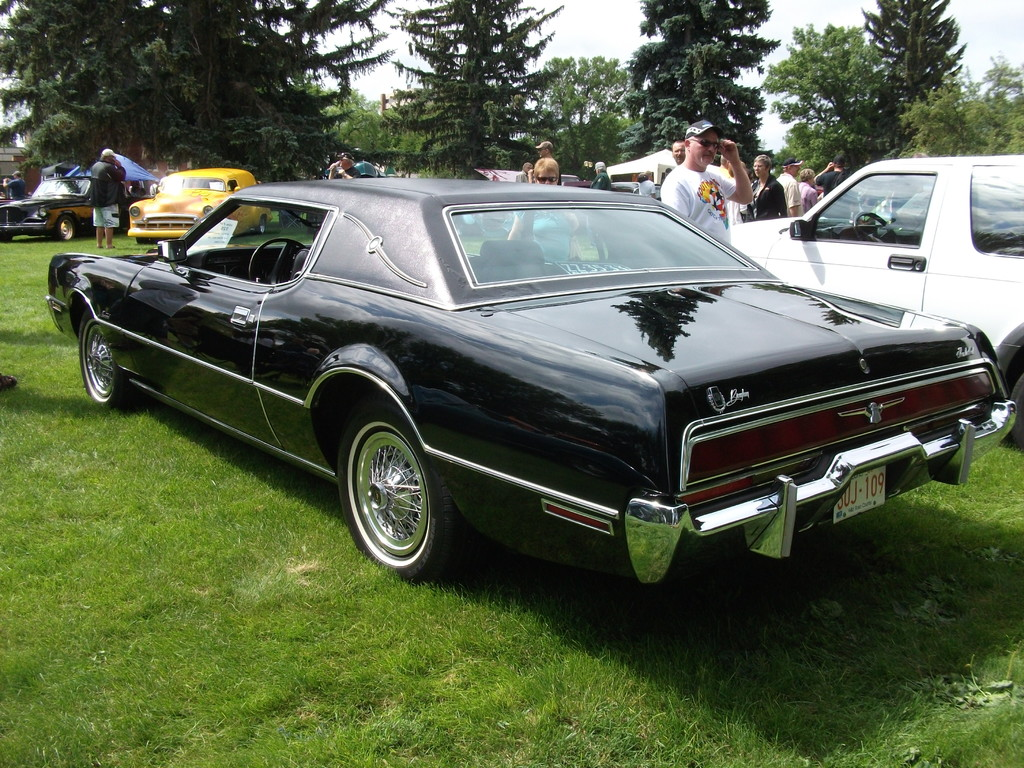Car: (8, 178, 1009, 602), (727, 154, 1023, 448), (0, 166, 825, 240)
